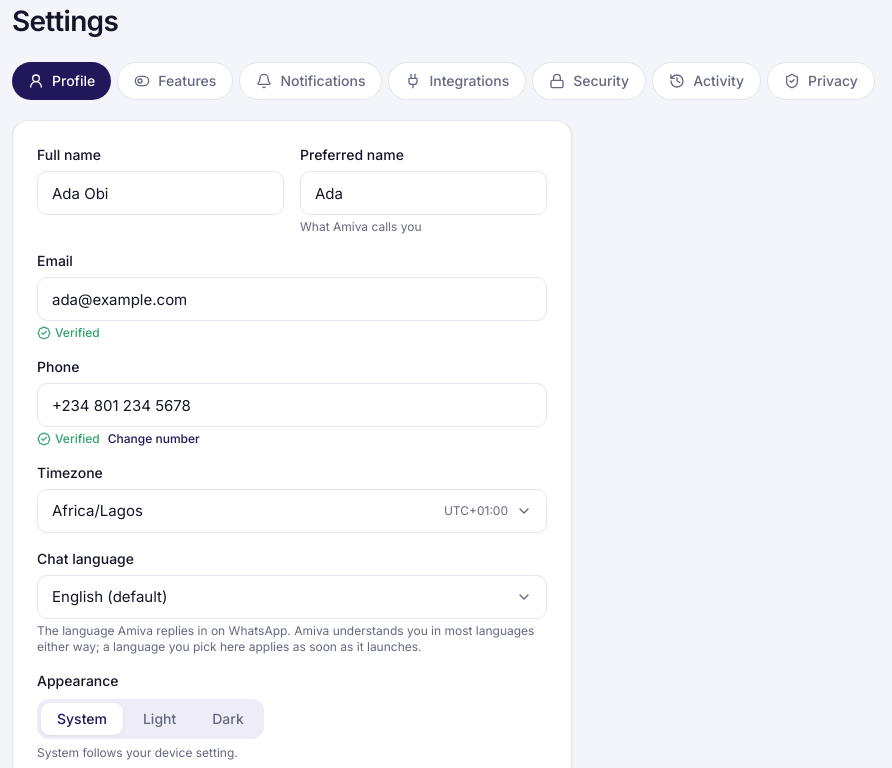
Test: Activity log (inside Settings) › lists actions with risk chips and an expandable action detail
This screenshot has width=892, height=768.
Click the button "Activity".
click(707, 81)  # box [652,62,761,100]
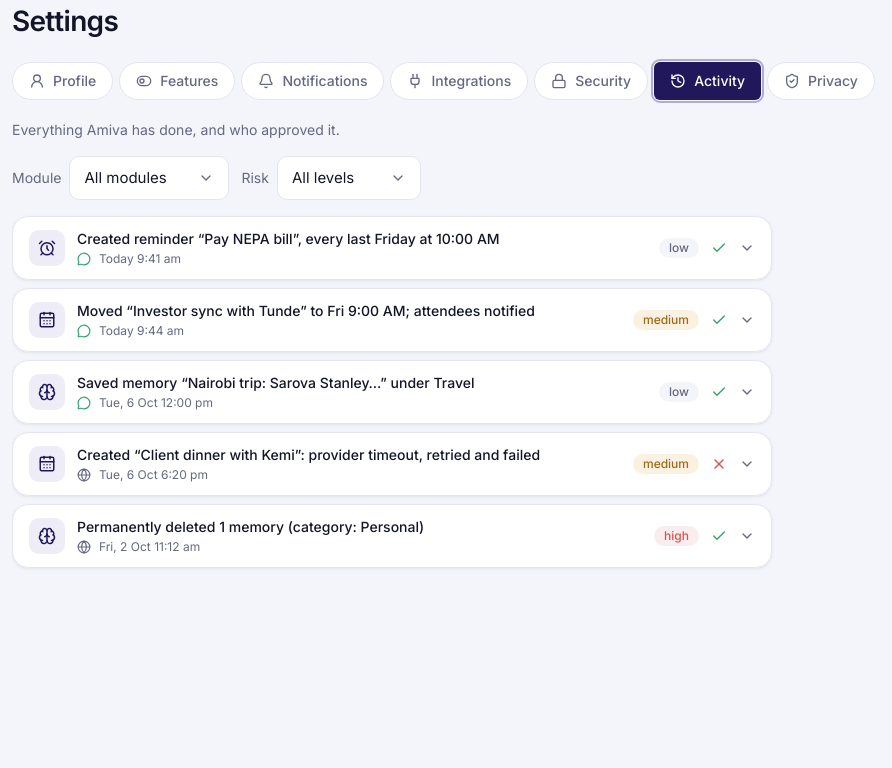
expect the text "Permanently deleted 1 memory (category: Personal)" is shown: met
expect the text "high" is shown: met, box [654,526,699,546]
Click the text "Permanently deleted 1 memory (category: Personal)".
click(251, 526)  # box [77,518,424,535]
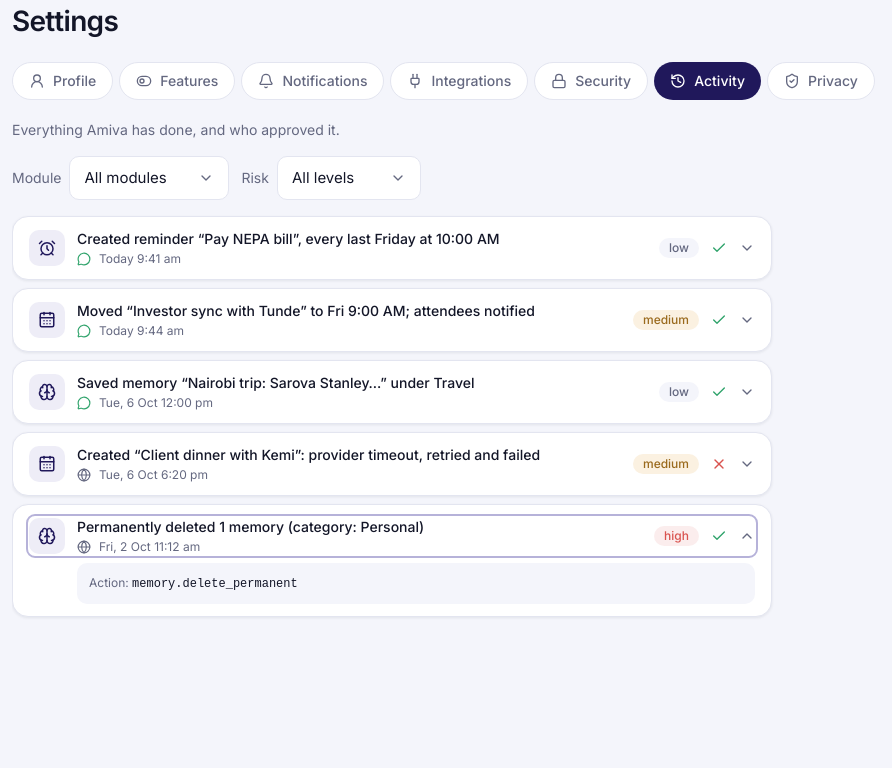
expect the text "memory.delete_permanent" is shown: met, box [132,577,298,591]
